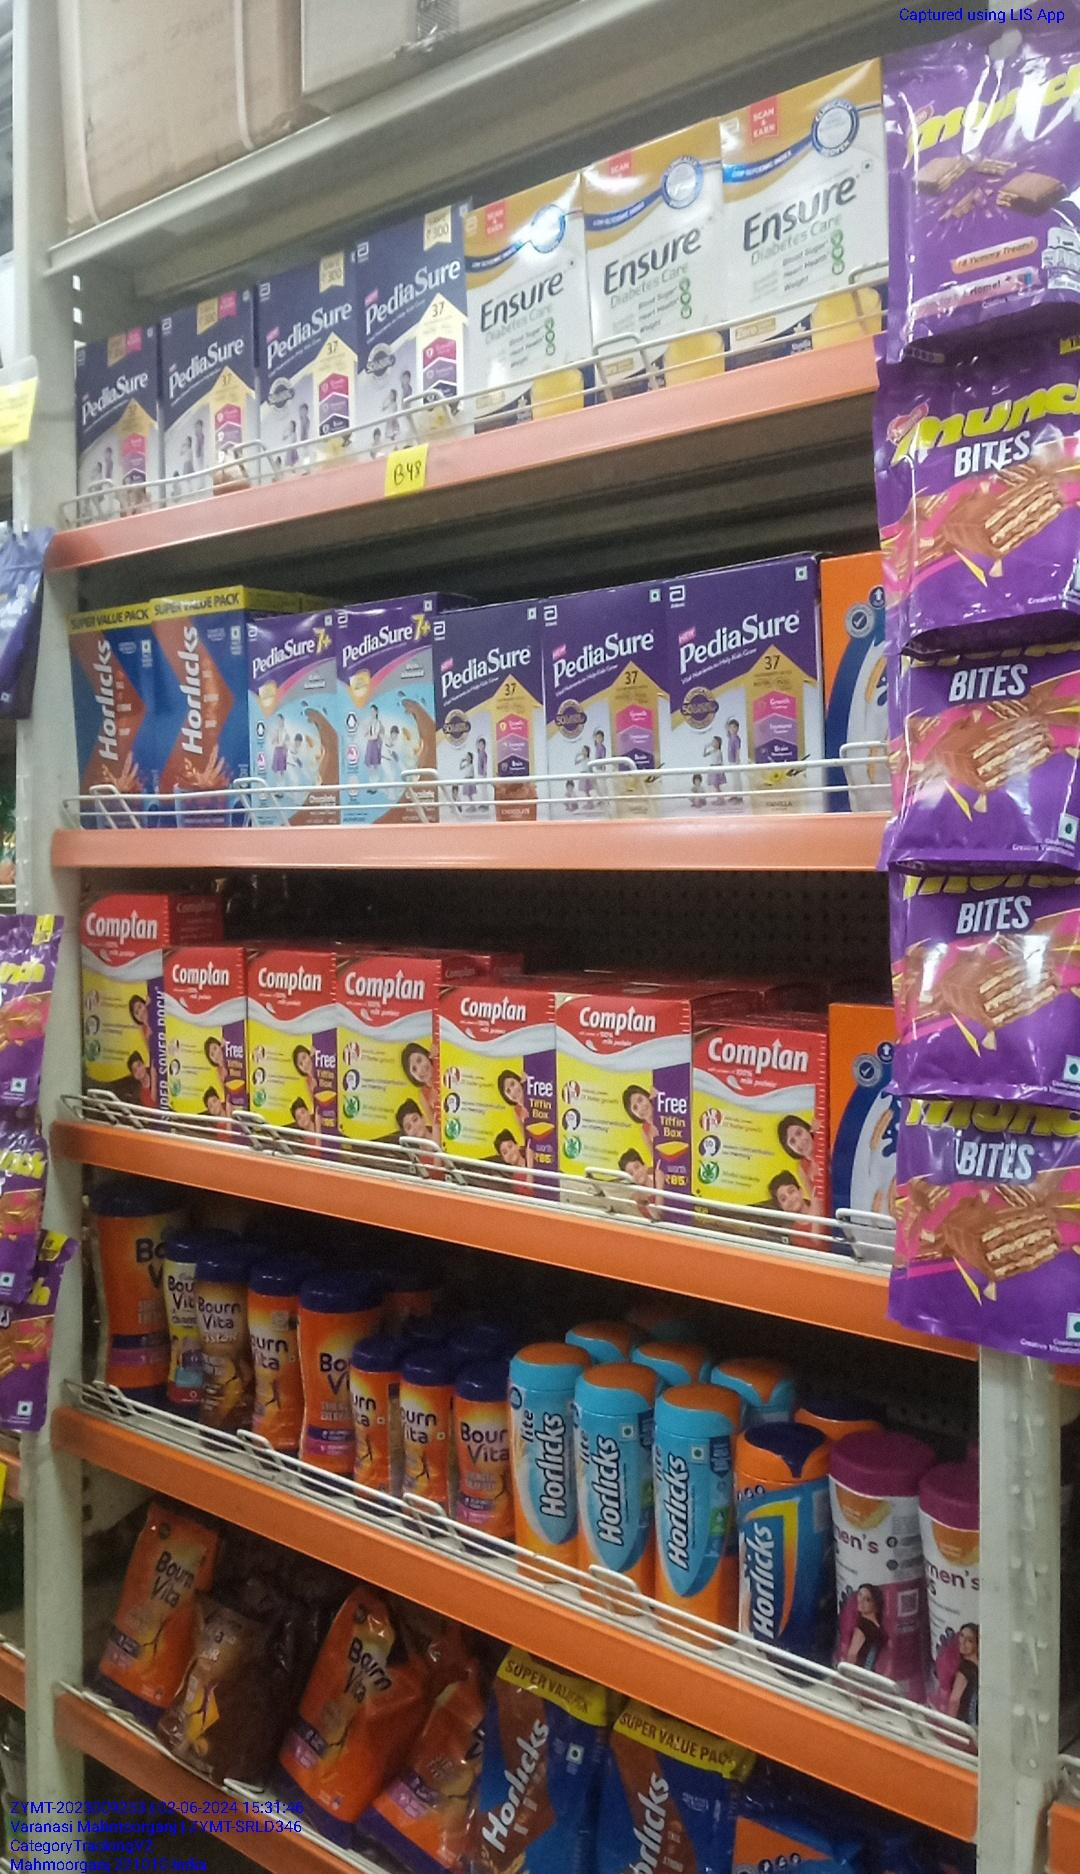BOURN_VITA_200_G_JAR: (454, 1376, 506, 1561), (350, 1346, 399, 1519), (403, 1362, 451, 1537)
BOURN_VITA_CHAMPS_500_G_JAR: (163, 1237, 196, 1426)
HORLICKS_LITE_REGULAR_MALT_500_GM_JAR: (655, 1394, 730, 1649), (574, 1382, 649, 1614), (511, 1353, 569, 1586)
HORLICK_CHOCOLATE_1_KG_PACK: (157, 595, 248, 825), (70, 604, 154, 826)
HORLICK_CLASSIC_MALT_500_G_JAR: (738, 1435, 817, 1686)
PEDIASURE_7_PLUS_CHOCOLATE_400_G_PACK: (342, 608, 435, 825), (252, 617, 339, 831)
PEDIASURE_CHOCOLATE_500_G_PACK: (438, 610, 541, 819)
PEDIASURE_VANILLA_500_G_PACK: (667, 568, 821, 817), (547, 593, 664, 821)
